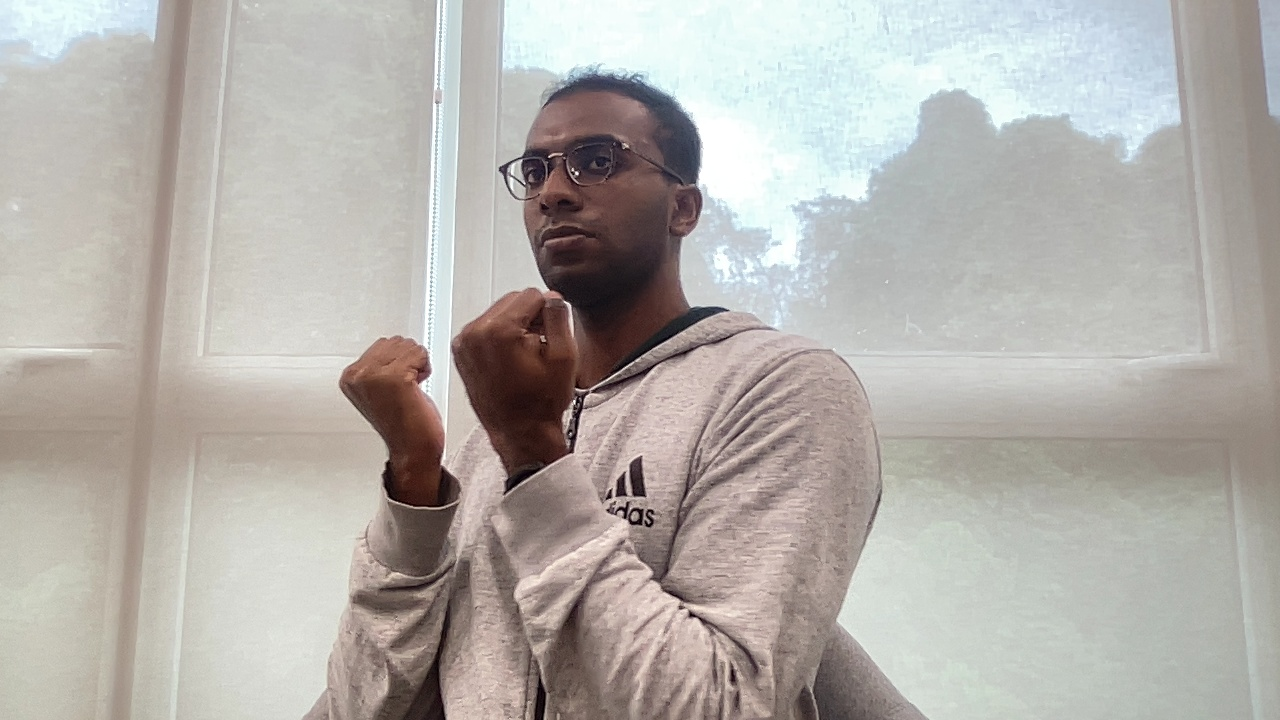finish: (320, 284, 590, 444)
